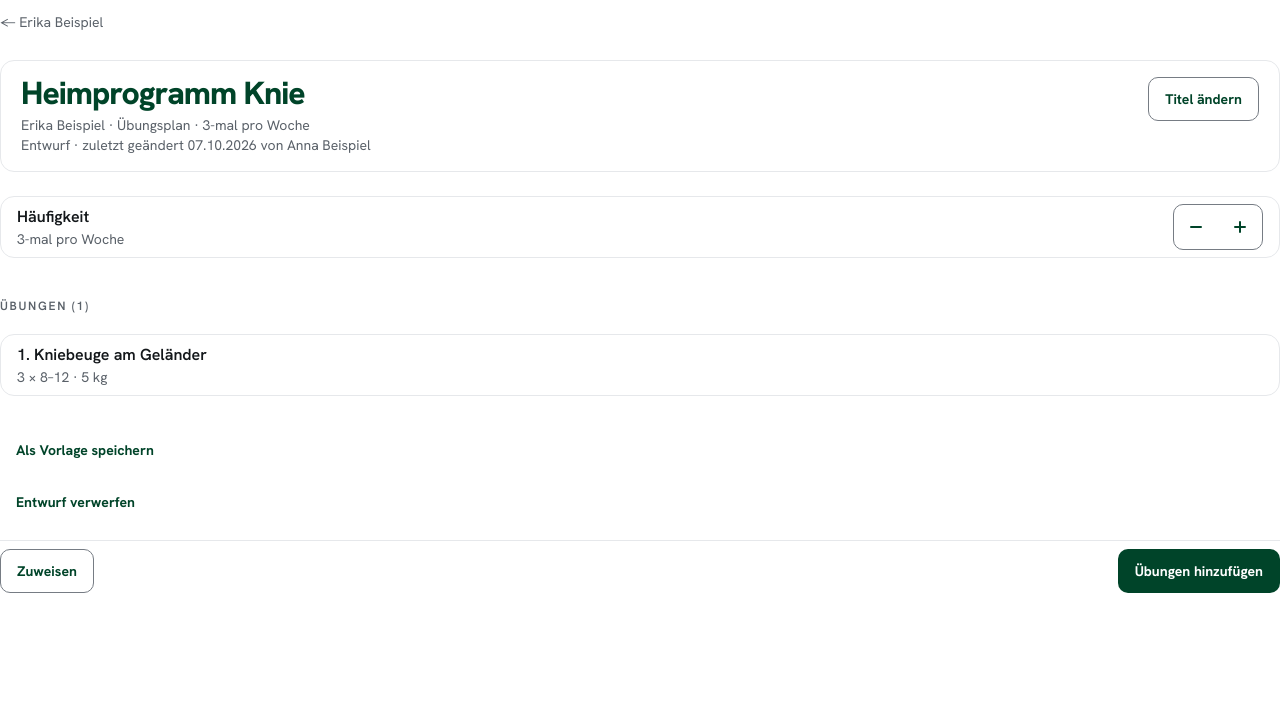
Test: Planeditor: Entwurf als Arbeitsseite (UEB-004, Welle B) › sagt, wie viele angekommen sind, wenn eine scheitert
Click the button "Übungen hinzufügen" at x=1199, y=571, box top-left (1118, 549), bottom-right (1279, 593)
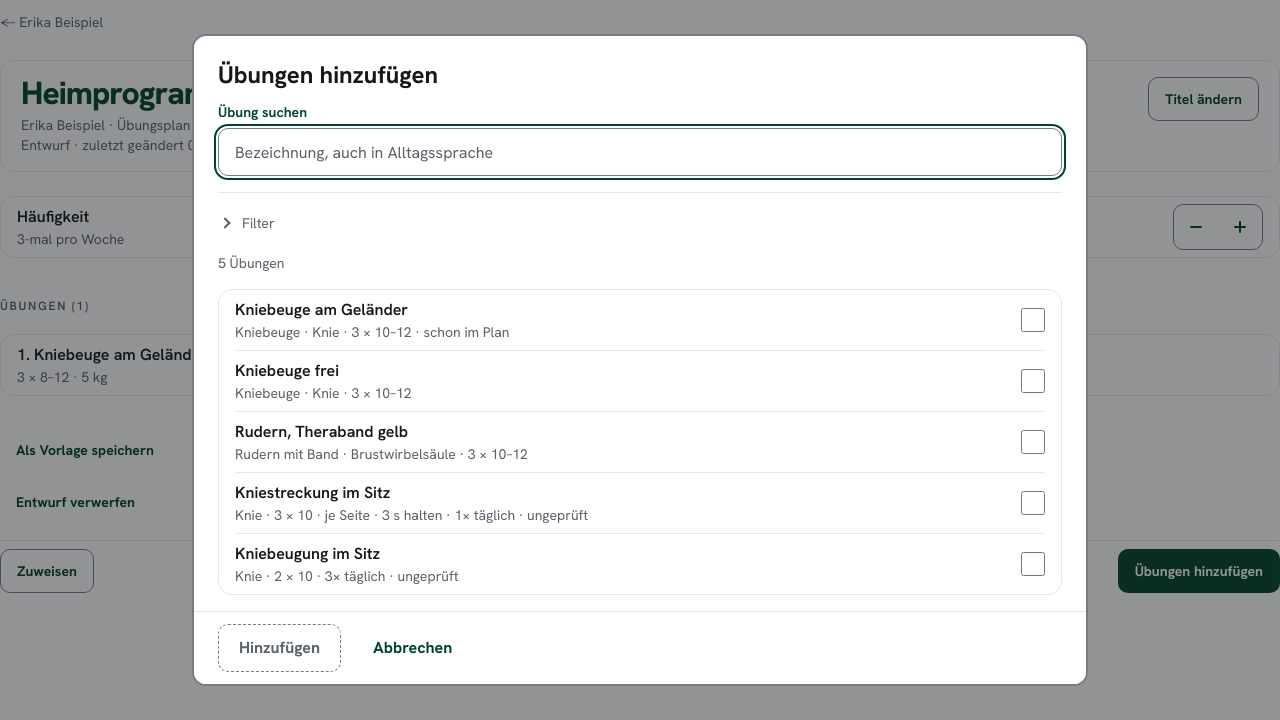
Click the checkbox labelled "Kniebeuge frei Kniebeuge · Knie · 3 × 10–12" at x=1033, y=381, box top-left (1021, 369), bottom-right (1045, 393)
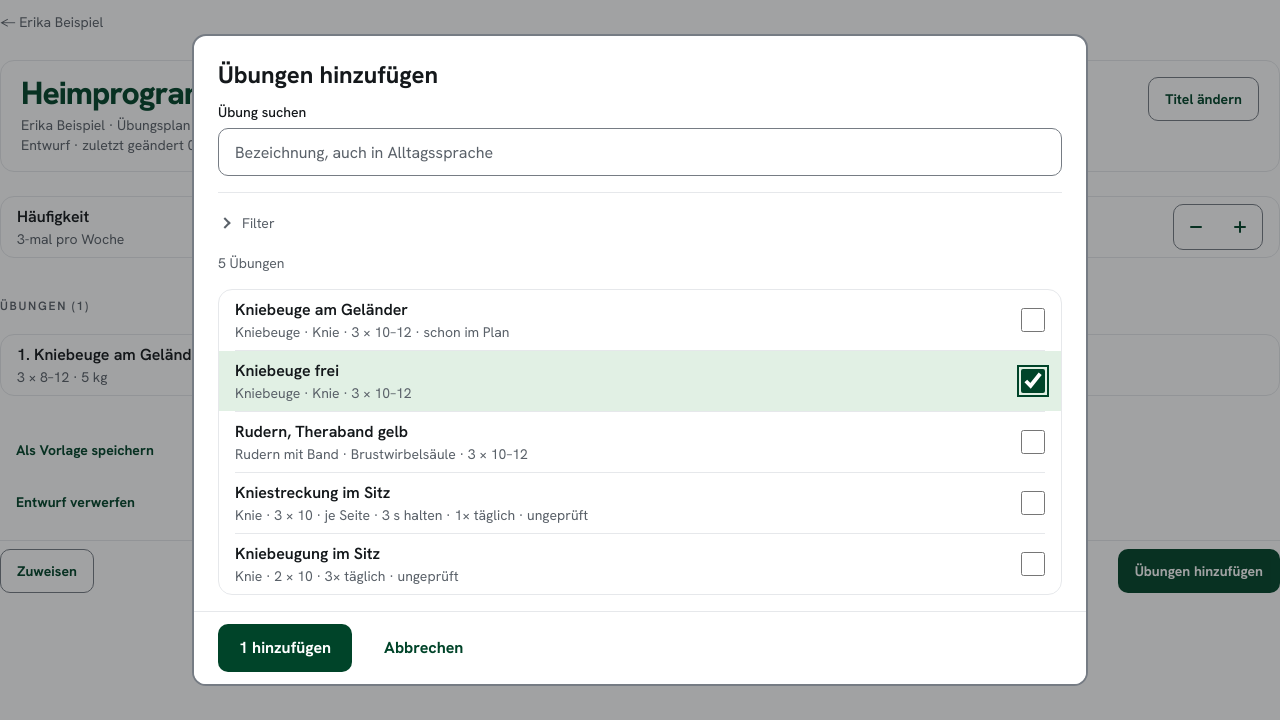
Click the checkbox labelled "Rudern, Theraband gelb" at x=1033, y=442, box top-left (1021, 430), bottom-right (1045, 454)
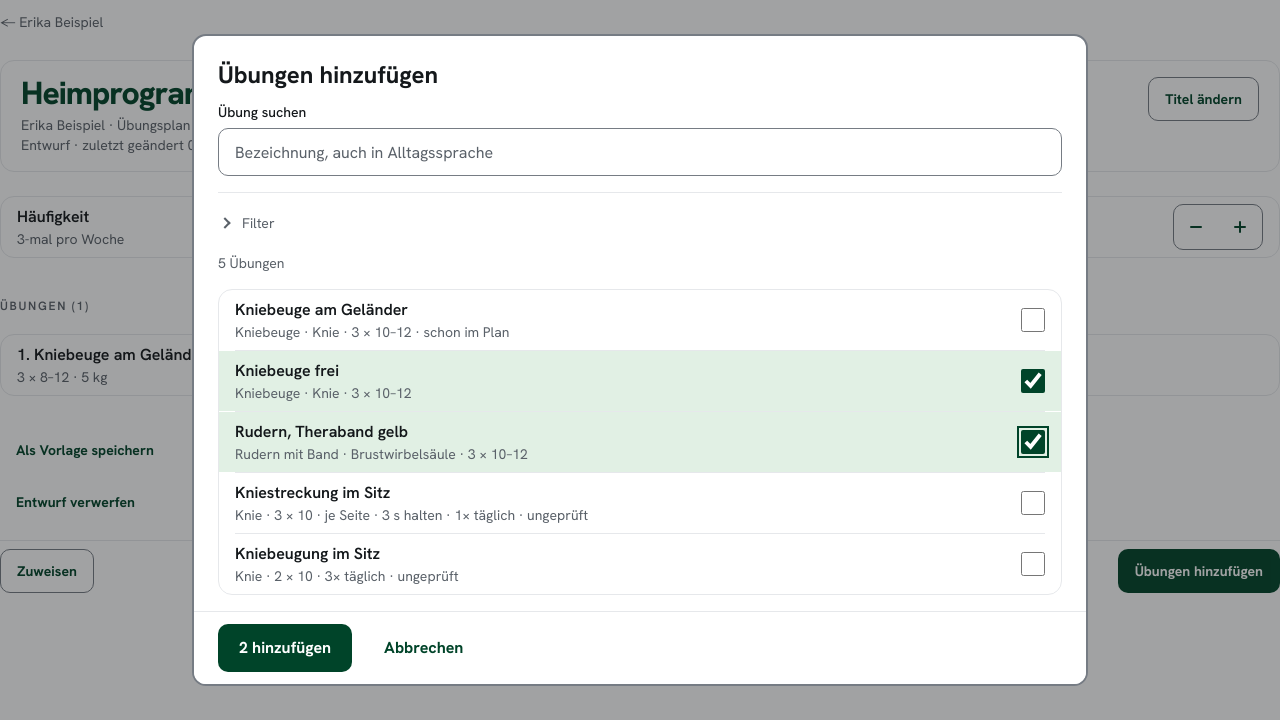
Click the button "2 hinzufügen" at x=285, y=648, box top-left (218, 624), bottom-right (352, 672)
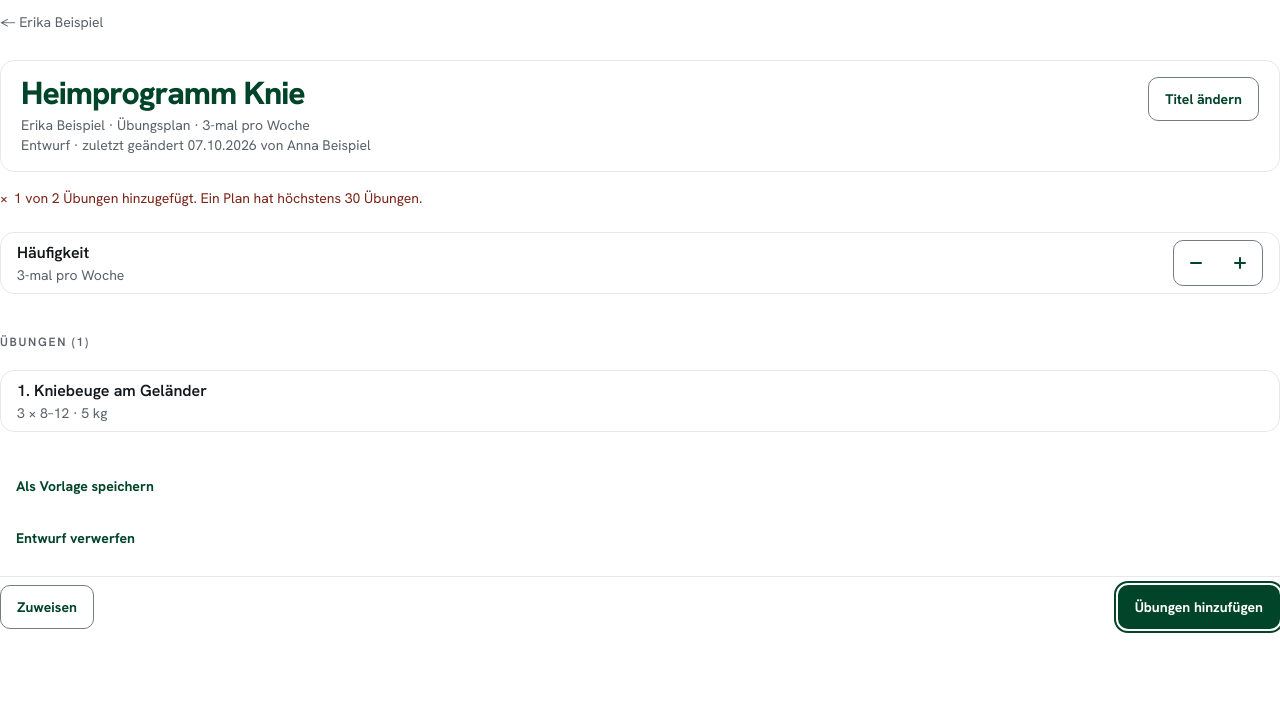
Check: the text "1 von 2 Übungen hinzugefügt. Ein Plan hat höchstens 30 Übungen." is shown, box top-left (14, 189), bottom-right (422, 207)
